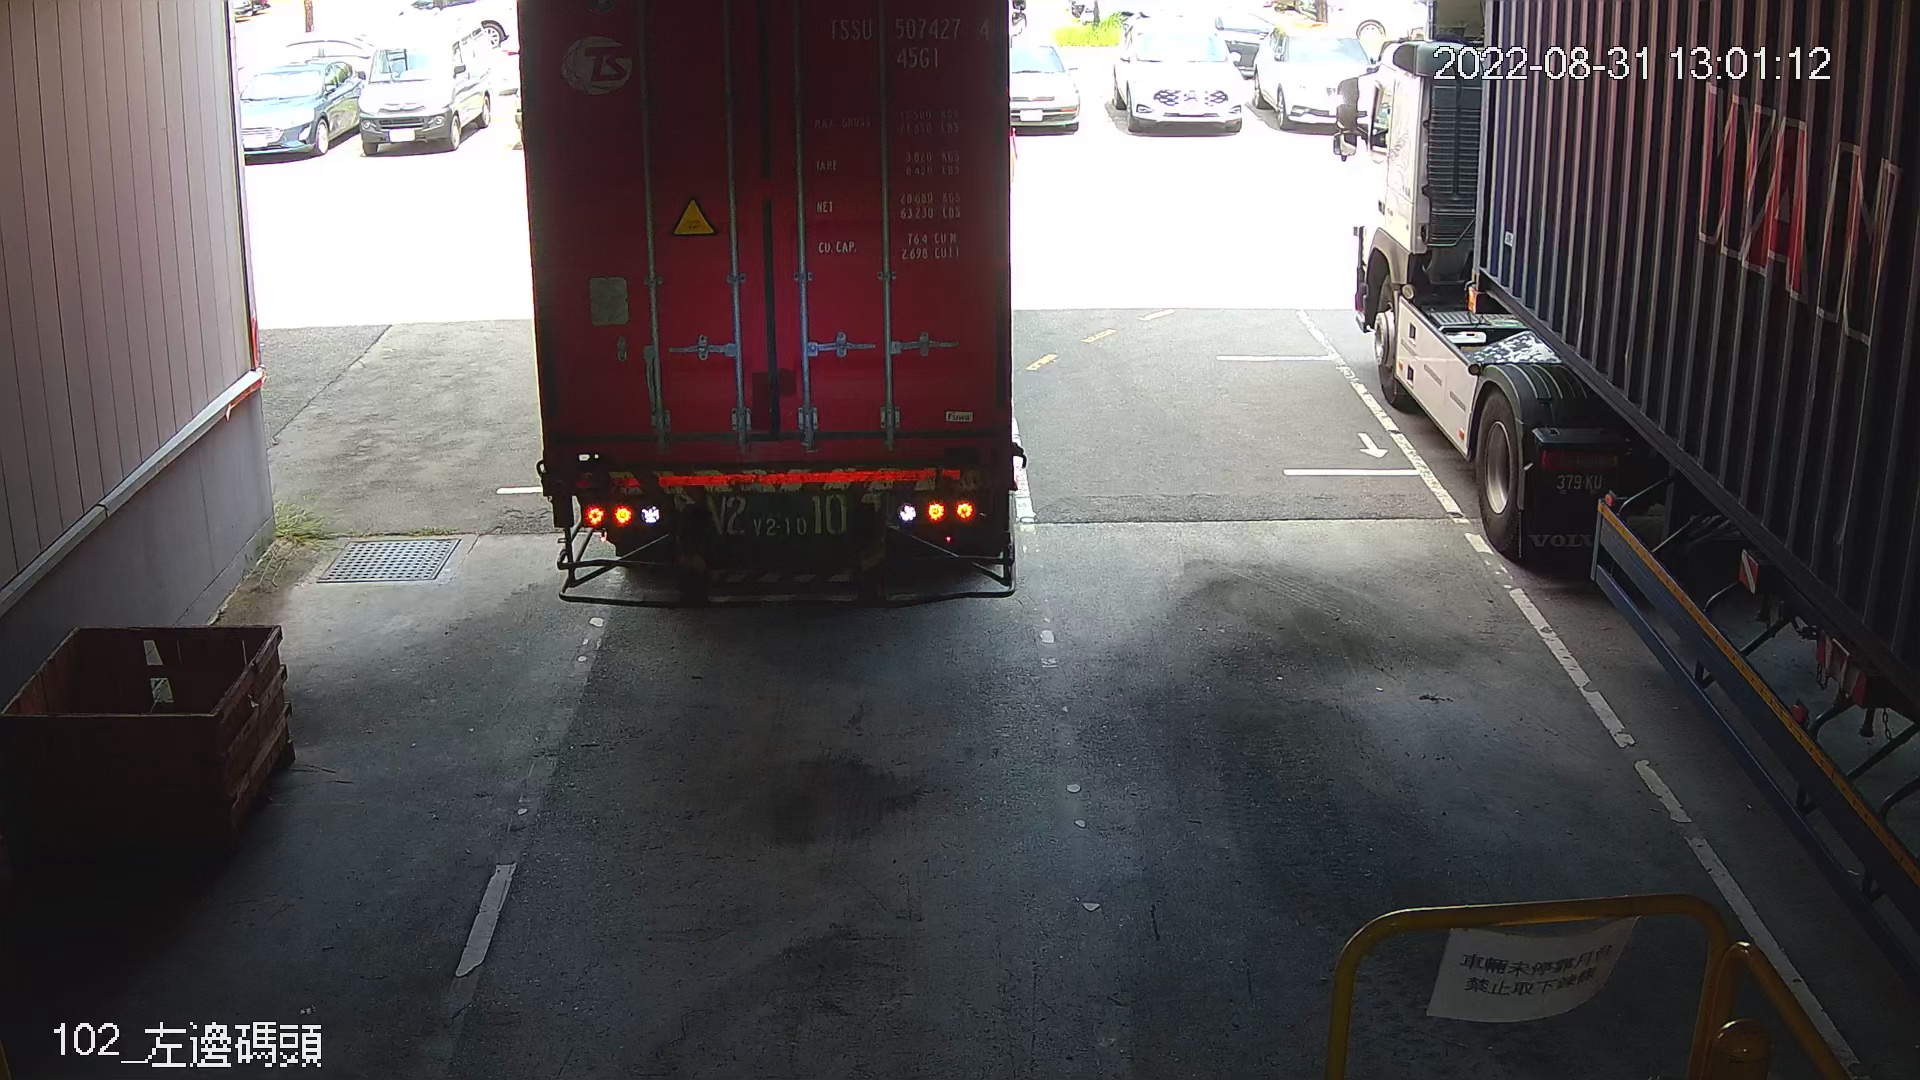container: (820, 5, 1001, 80)
